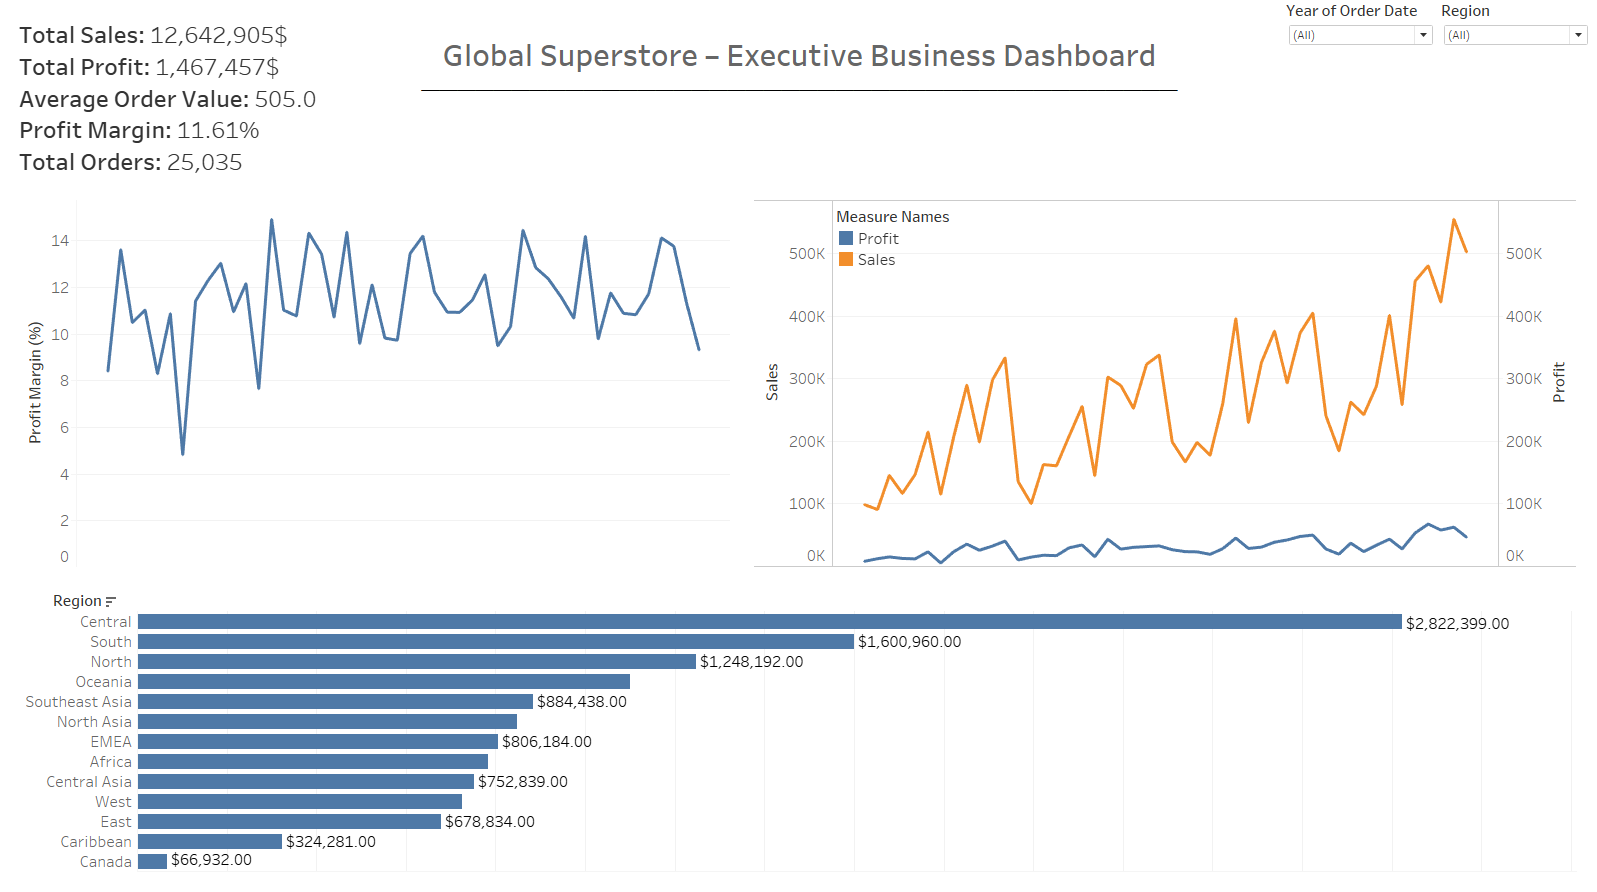

The page's visual inventory and layout, read from the dashboard file:
{"tool":"tableau","page":{"name":"Executive Overview","canvas":[1600,900],"ordinal":1},"visuals":[{"type":"filter","title":"Sales by Region","param":"[federated.0678bsq19srvlk10o4p8z009fxcs].[yr:order_date:ok]","box":[1289,0,150,48]},{"type":"filter","title":"Sales by Region","param":"[federated.0678bsq19srvlk10o4p8z009fxcs].[none:region:nk]","box":[1444,0,150,48]},{"type":"worksheet","title":"KPIs","mark":"Automatic","box":[8,8,1584,180]},{"type":"text","box":[325,8,955,125]},{"type":"worksheet","title":"Profit Margin Over Time","mark":"Automatic","rows":["Calculation_1540794027077316611"],"cols":["order_date"],"box":[8,188,737,391]},{"type":"worksheet","title":"Sales Over Time","mark":"Line","rows":["sales","profit"],"cols":["order_date"],"box":[745,188,847,391]},{"type":"legend","title":"Sales Over Time","param":"[federated.0678bsq19srvlk10o4p8z009fxcs].[:Measure Names]","box":[839,206,140,64]},{"type":"worksheet","title":"Sales by Region","mark":"Bar","rows":["region"],"cols":["sales"],"box":[8,579,1584,313]}]}

Visuals, with their boxes in screenshot pixels (x1, y1, x2, y2), scaled from the page's 1600x900 canvas onto the 1597x892 screenshot:
"Sales by Region" filter: detection(1287, 0, 1436, 48)
"Sales by Region" filter: detection(1441, 0, 1591, 48)
"KPIs" worksheet: detection(8, 8, 1589, 186)
text: detection(324, 8, 1278, 132)
"Profit Margin Over Time" worksheet: detection(8, 186, 744, 574)
"Sales Over Time" worksheet (Line marks): detection(744, 186, 1589, 574)
"Sales Over Time" legend: detection(837, 204, 977, 268)
"Sales by Region" worksheet (Bar marks): detection(8, 574, 1589, 884)
